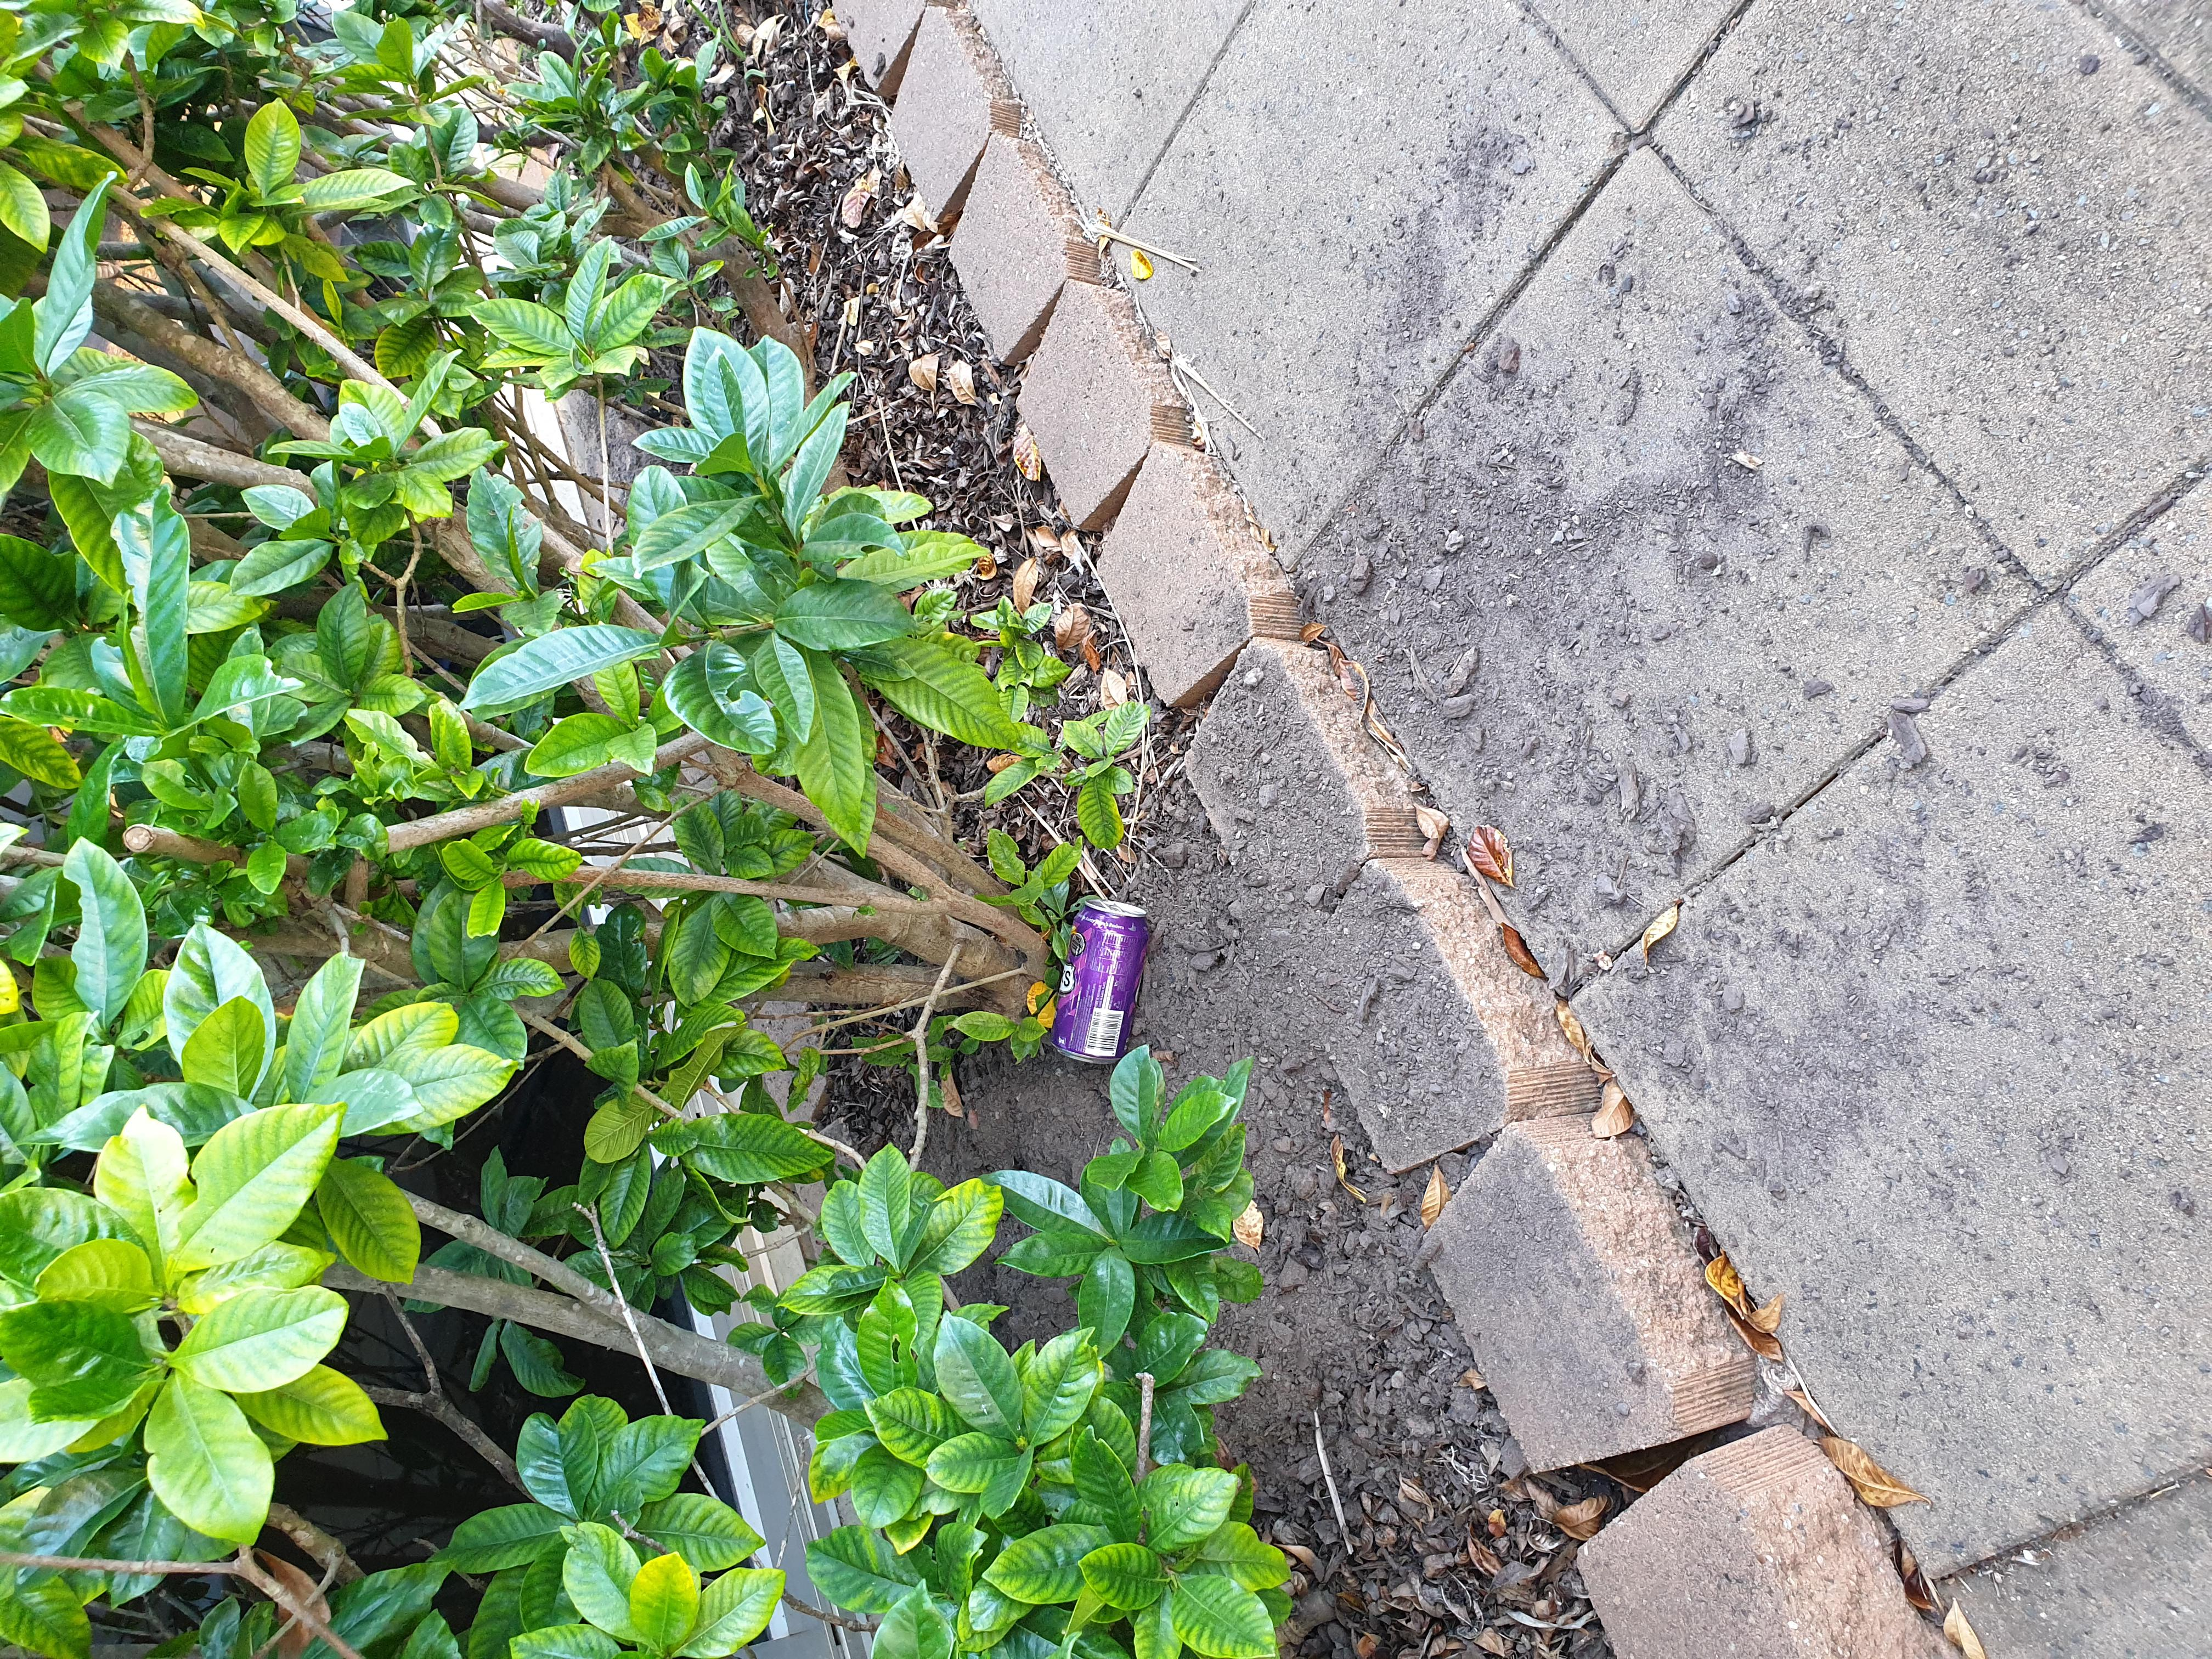Plastic Bottle: (1043, 892, 1151, 1068)
